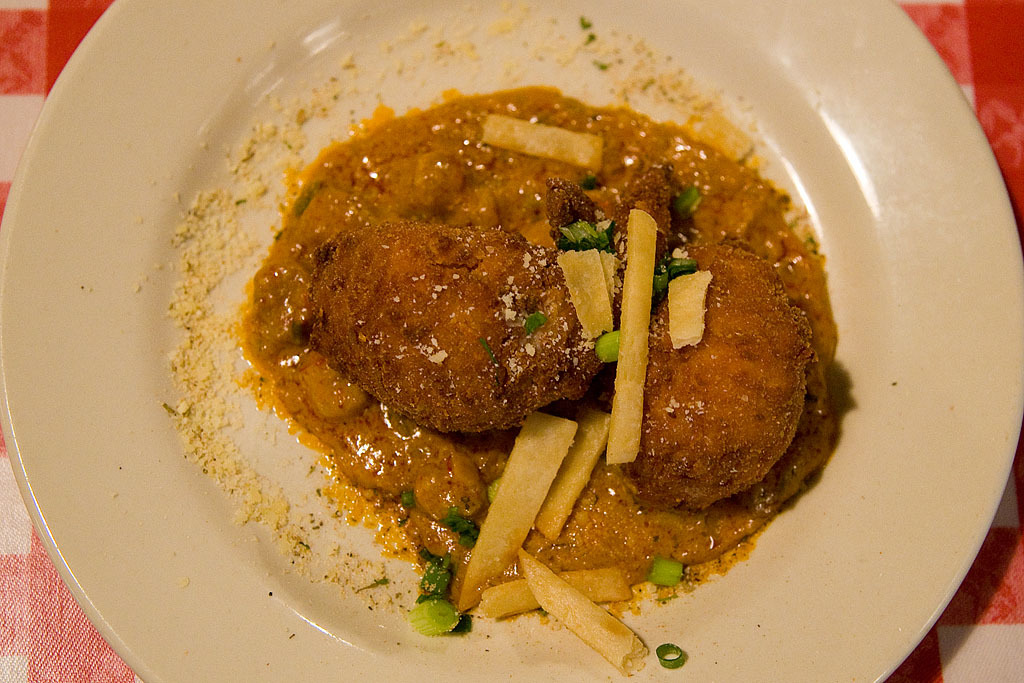French fries: (455, 211, 711, 613), (478, 554, 677, 667), (485, 114, 602, 170)
